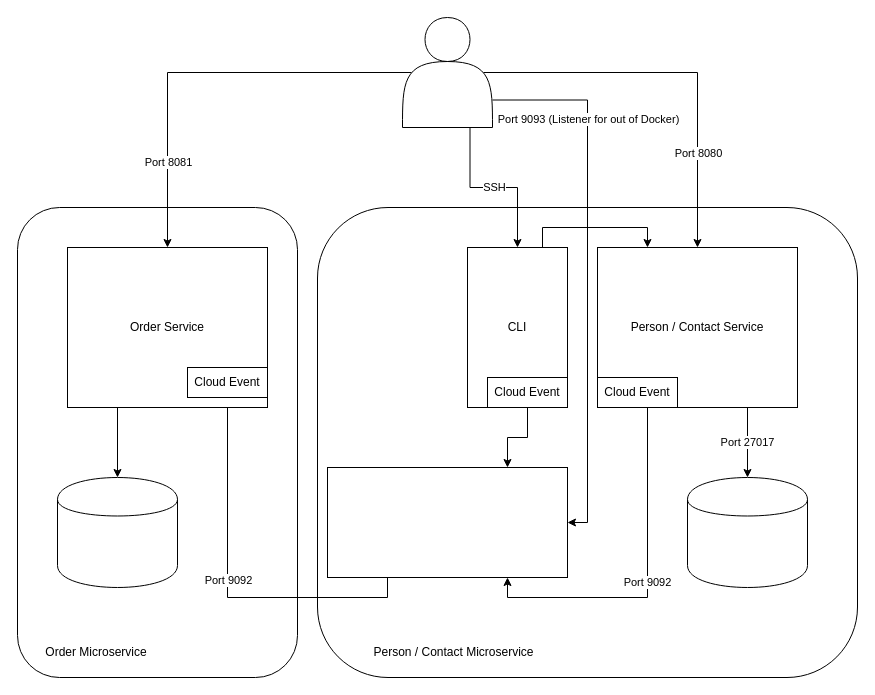
Image size: 875x695. Some labels were removed from this diagram. The box of each missing label's shape, as (x1, y1, x2, y2) in pixels:
Kafka / Zookeeper: (326, 466, 568, 578)
Mongo DB: (686, 476, 808, 588)
SQLite: (56, 476, 178, 588)
